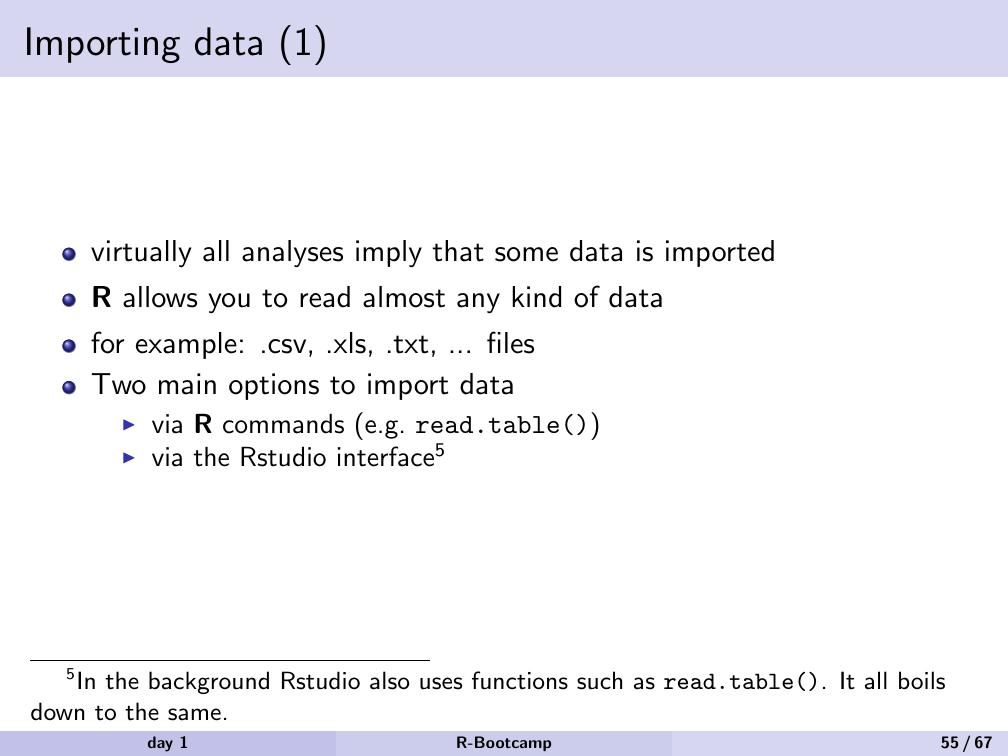Title: (13, 11, 330, 72)
